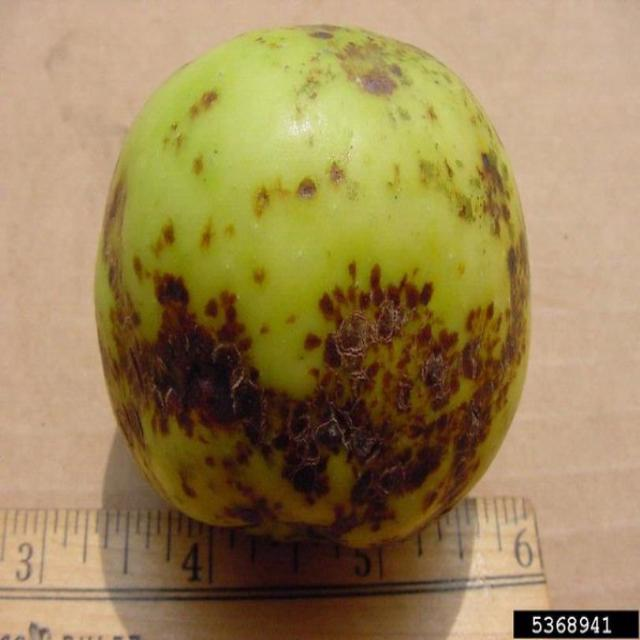Rotten Apple: (84, 14, 553, 564)
